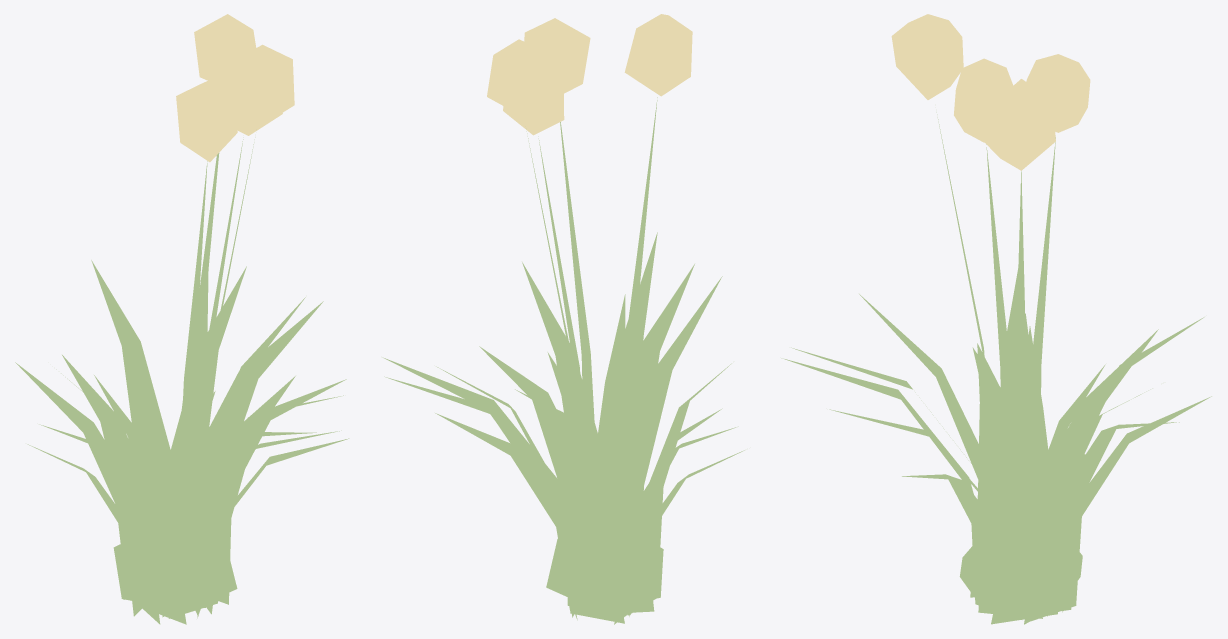
The model's file is Blender_Plume_2.glb.
The picture shows the model from 3 angles, left to right: view 1: azimuth 30°, elevation 25°; view 2: azimuth 150°, elevation 25°; view 3: azimuth 270°, elevation 25°; orthographic projection. The views are drawn at different scales.
Visible parts, largest first — view 1: Blender_Plume_2; view 2: Blender_Plume_2; view 3: Blender_Plume_2.
Part boxes in pixels (x1,y1,x2,y2): Blender_Plume_2: (15,14,349,624); Blender_Plume_2: (382,14,744,624); Blender_Plume_2: (781,14,1211,624).
Bounding box in the file's own units: 0.9652 × 1.54 × 1.03.
